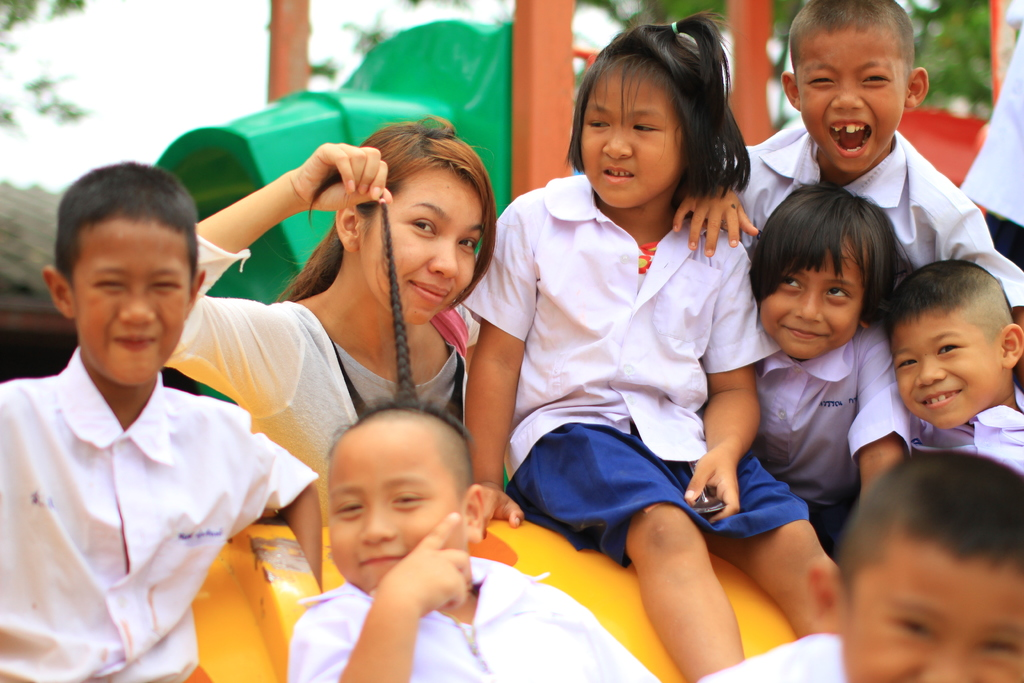Human_hand: (380, 515, 474, 617), (289, 141, 391, 210), (673, 185, 757, 257), (685, 450, 736, 523), (480, 485, 525, 534)
